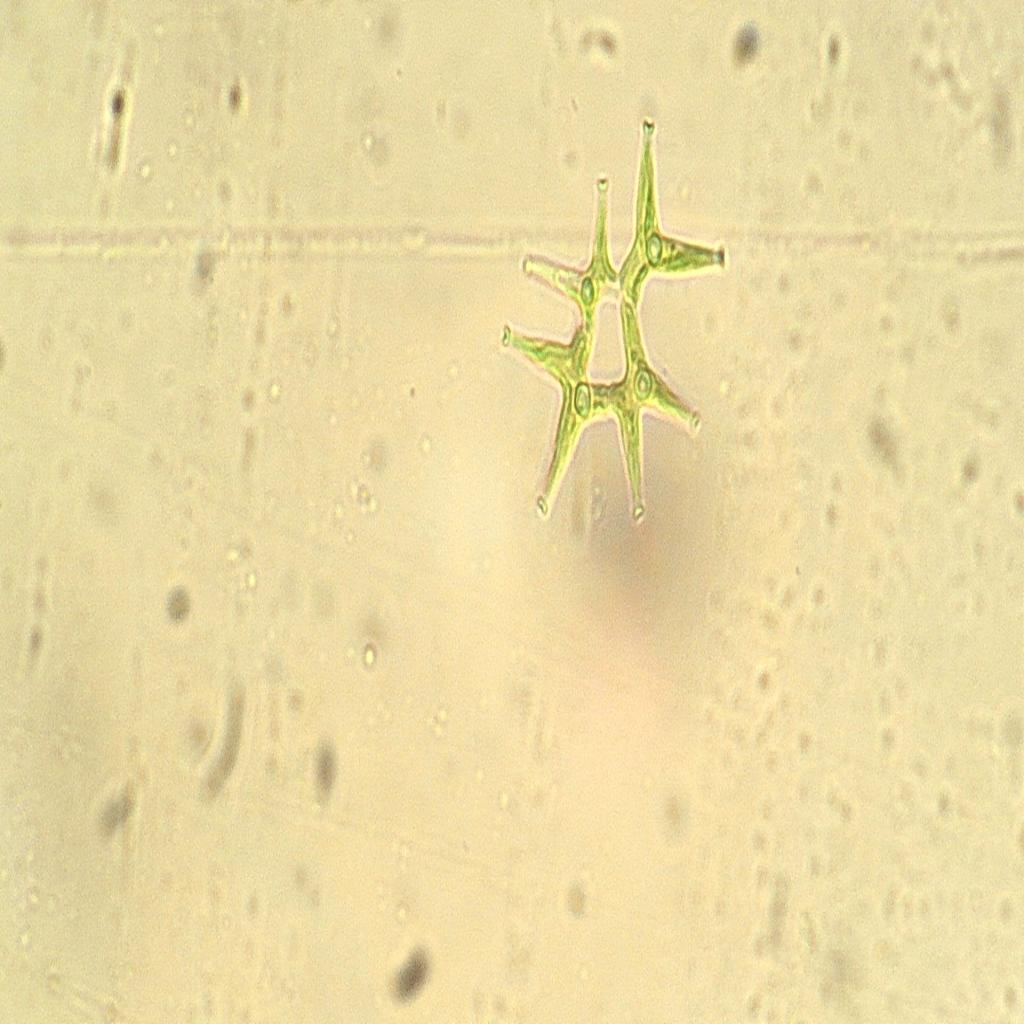Pediastrum_75FI: (485, 83, 741, 562)
